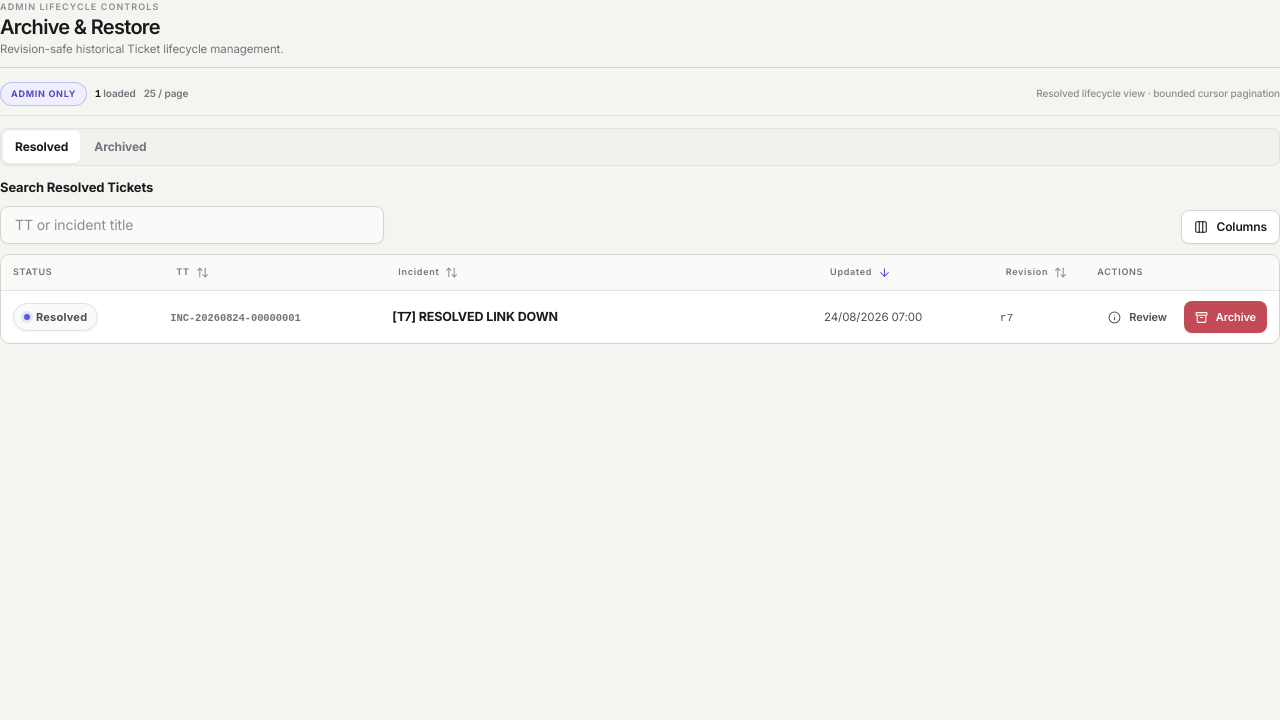
Test: ArchiveManagementPage › archives with the current revision through the controlled confirmation dialog
Click the button "Archive": (1225, 317) x1=1184 y1=301 x2=1267 y2=333
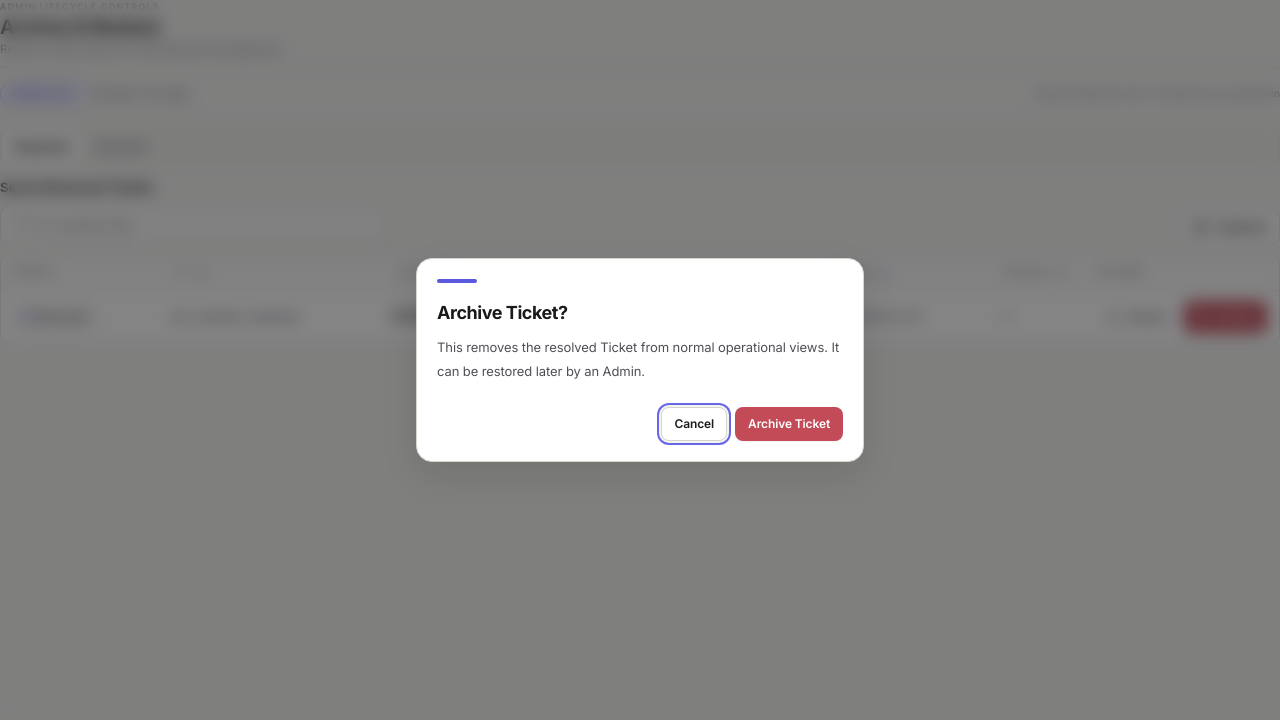
Expected: the dialog "Archive Ticket?" is shown, x1=416 y1=258 x2=864 y2=462
Click the button "Archive Ticket": (789, 424) x1=735 y1=407 x2=843 y2=441
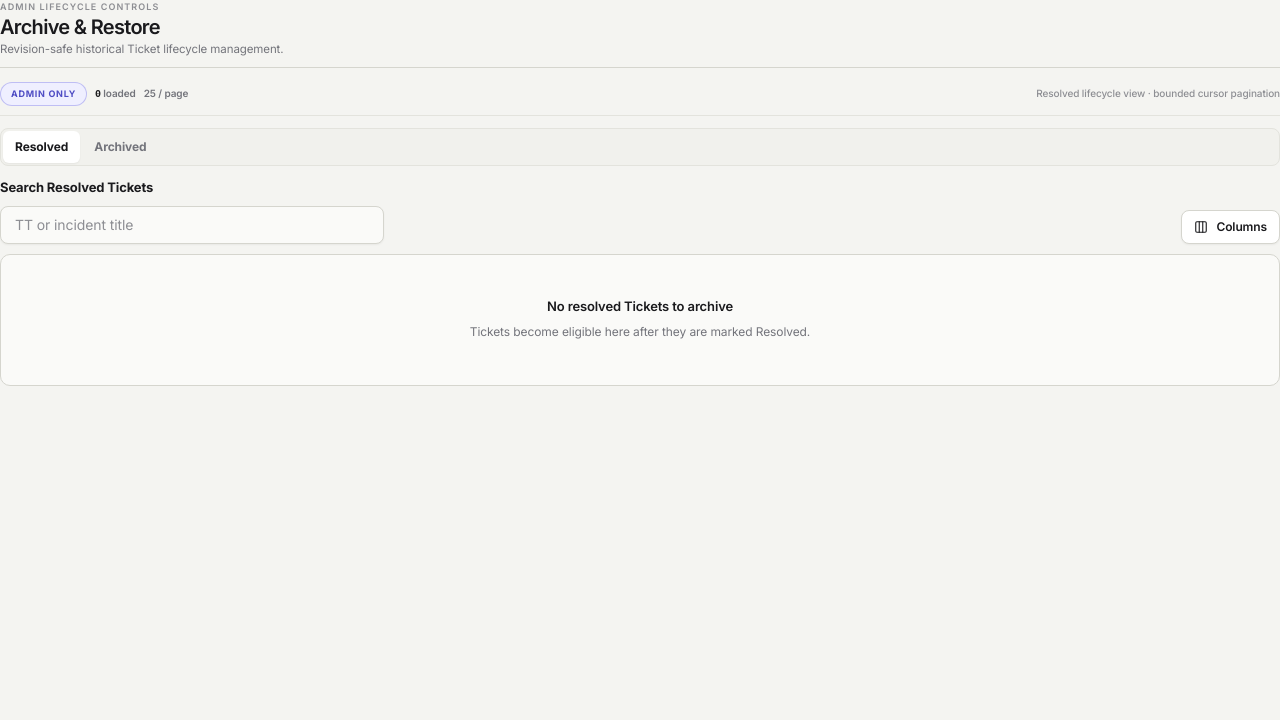
Expected: the link "[T7] RESOLVED LINK DOWN" is gone
